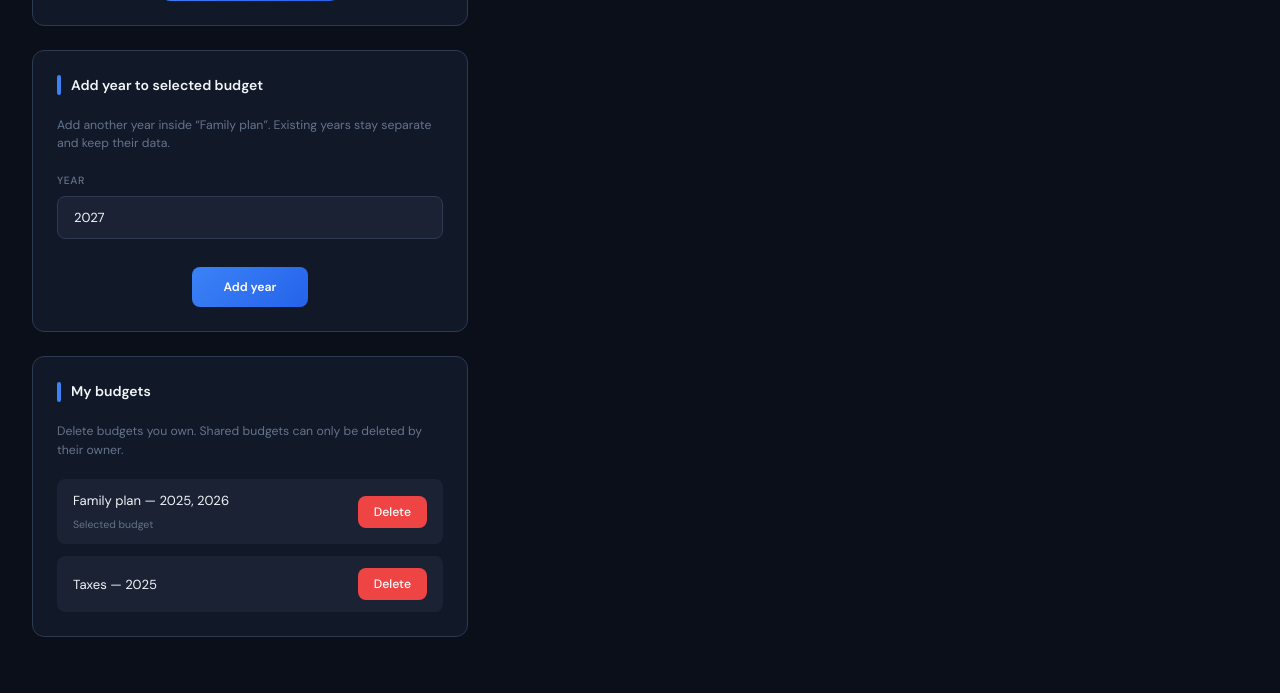
budget deletion settings › does not delete the budget when the confirmation is cancelled
The image size is (1280, 693).
(page scrolled)
Click the button "Delete" in the row of "Taxes — 2025".
click(392, 584)  # box [358,568,427,600]
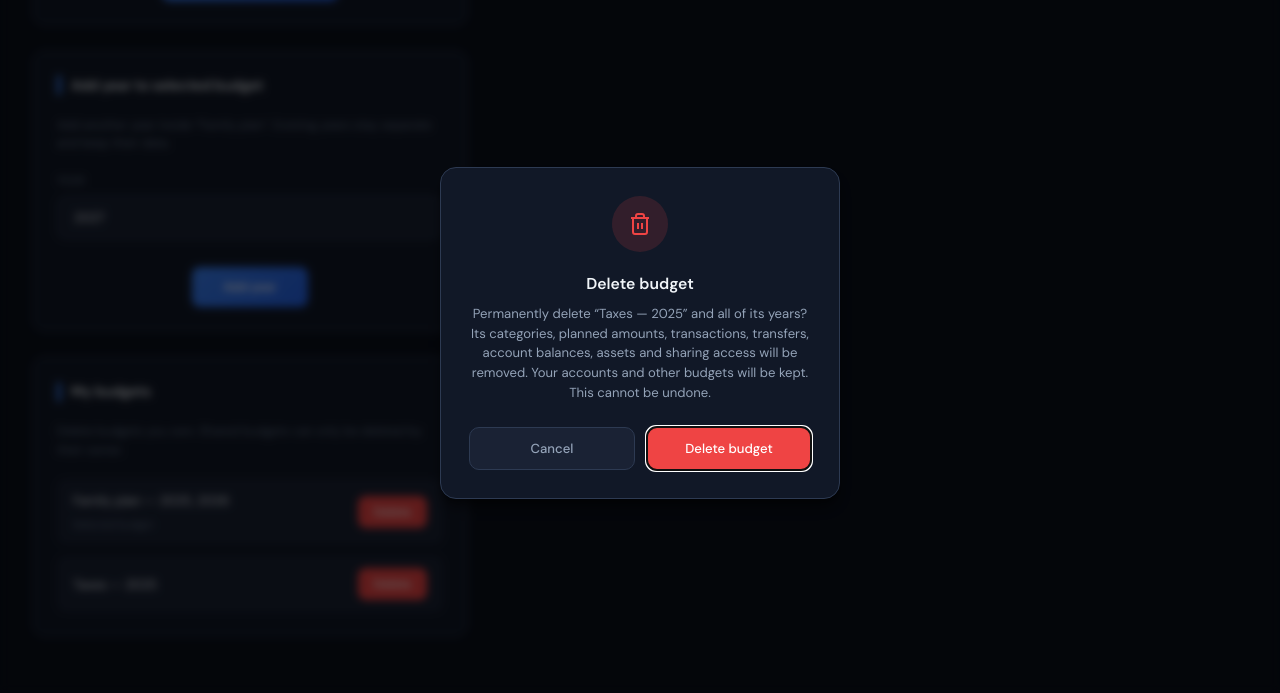
Click the button "Cancel".
click(552, 448)  # box [469,426,635,470]
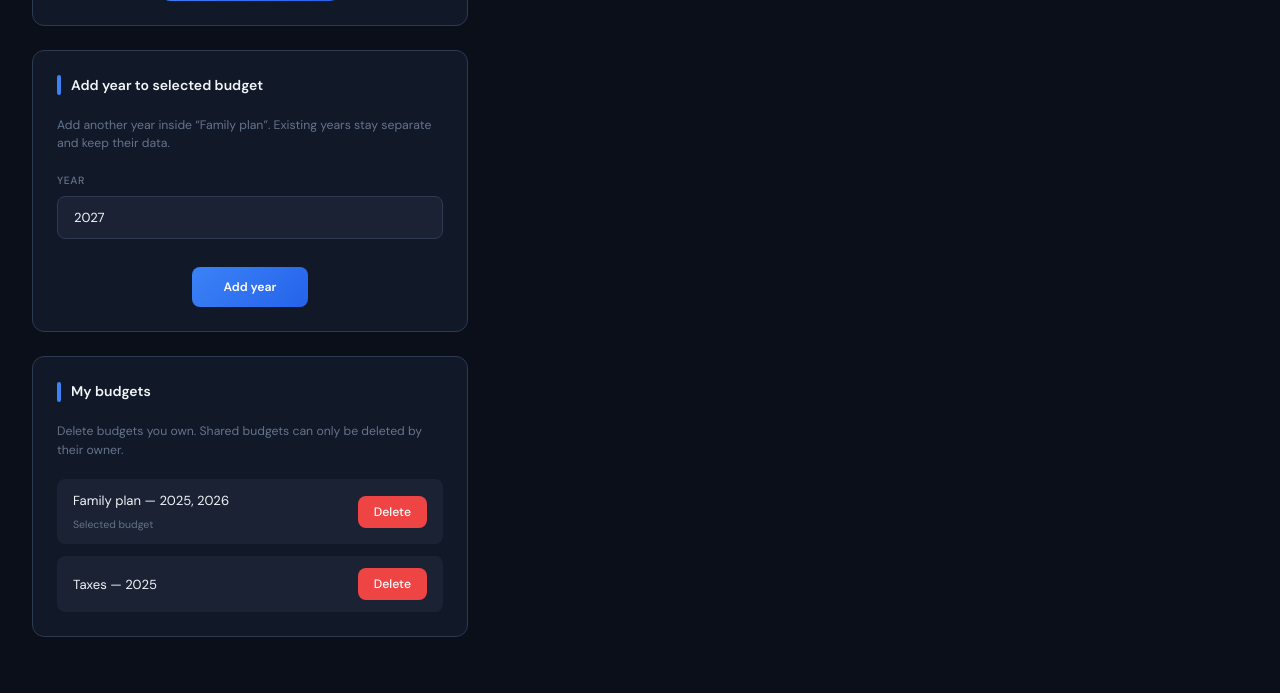
Expected: the dialog is gone
